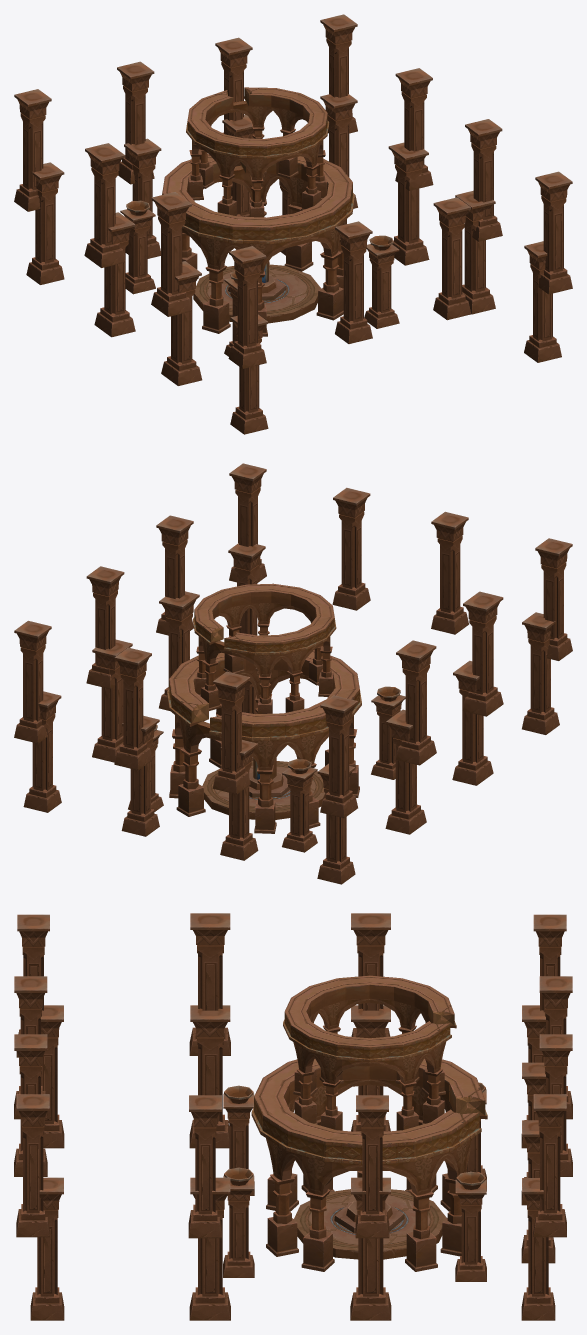
Rendered from Area_05_2.fbx.
3 views of the same model, one above another, from view 1: azimuth 30°, elevation 25°; view 2: azimuth 150°, elevation 25°; view 3: azimuth 270°, elevation 25° (orthographic). The views are drawn at different scales.
Visible parts, largest first — view 1: Area_05_2; view 2: Area_05_2; view 3: Area_05_2.
Part boxes in pixels (left/top/right/bottom): Area_05_2: left=14, top=14, right=572, bottom=434; Area_05_2: left=14, top=463, right=572, bottom=884; Area_05_2: left=14, top=913, right=572, bottom=1320.
Size of the model in its own units: 3785 by 1984 by 4555.
